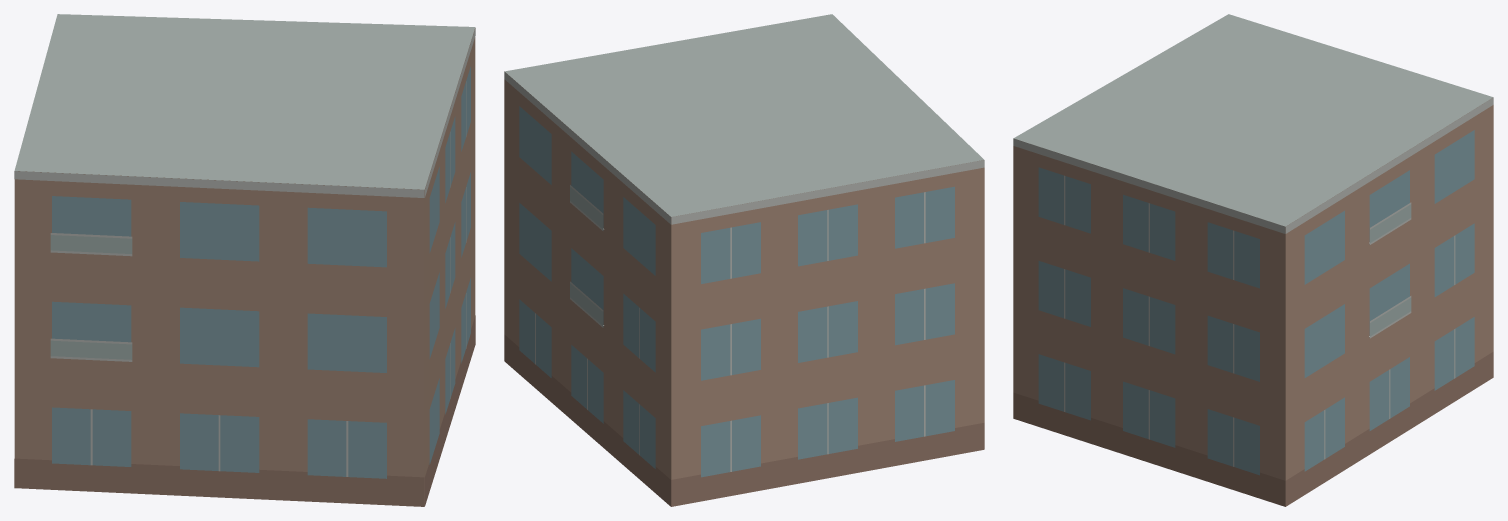
Rendered from survey-upis-32788133.glb.
The picture shows the model from 3 angles, left to right: view 1: azimuth 30°, elevation 25°; view 2: azimuth 150°, elevation 25°; view 3: azimuth 270°, elevation 25°; orthographic projection. The views are drawn at different scales.
Parts seen in each view (by area): view 1: survey-upis-32788133.tmp; view 2: survey-upis-32788133.tmp; view 3: survey-upis-32788133.tmp.
Boxes of the visible parts, <box> form: survey-upis-32788133.tmp: <box>14,14,475,506</box>; survey-upis-32788133.tmp: <box>504,14,984,506</box>; survey-upis-32788133.tmp: <box>1013,14,1493,506</box>.
Bounding box in the file's own units: 14.9 × 9.15 × 14.22.
